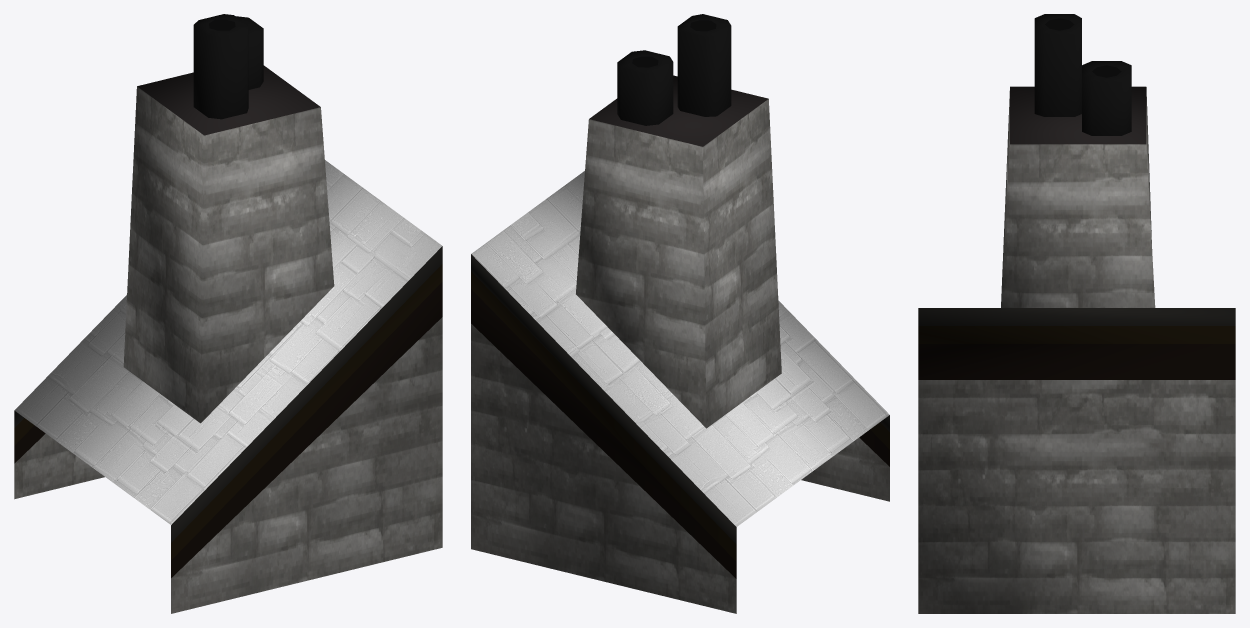
The picture shows the model from 3 angles, left to right: view 1: azimuth 30°, elevation 25°; view 2: azimuth 150°, elevation 25°; view 3: azimuth 270°, elevation 25°; orthographic projection. The views are drawn at different scales.
Parts seen in each view (by area): view 1: 629; view 2: 629; view 3: 629.
Part boxes in pixels (left/top/right/bottom): 629: left=14, top=14, right=442, bottom=613; 629: left=471, top=14, right=889, bottom=613; 629: left=918, top=14, right=1235, bottom=613.
Bounding box in the file's own units: 1.28 × 2.29 × 1.28.
3 materials, 2 textured.
